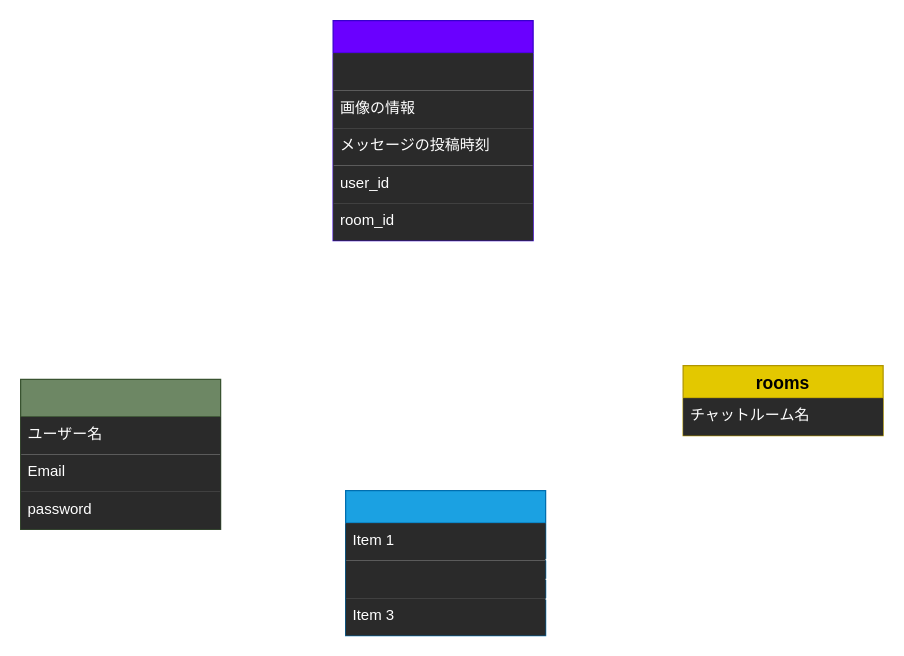
The diagram is 904 pixels wide and 656 high, and some of its shapes have lost their labels. The box of each missing label's shape, as (x1, y1, x2, y2) in pixels:
Item 2: (345, 560, 545, 598)
messages: (332, 19, 533, 241)
users: (19, 378, 221, 529)
users_rooms(中間): (344, 489, 546, 636)
テキストの内容: (332, 52, 532, 90)
